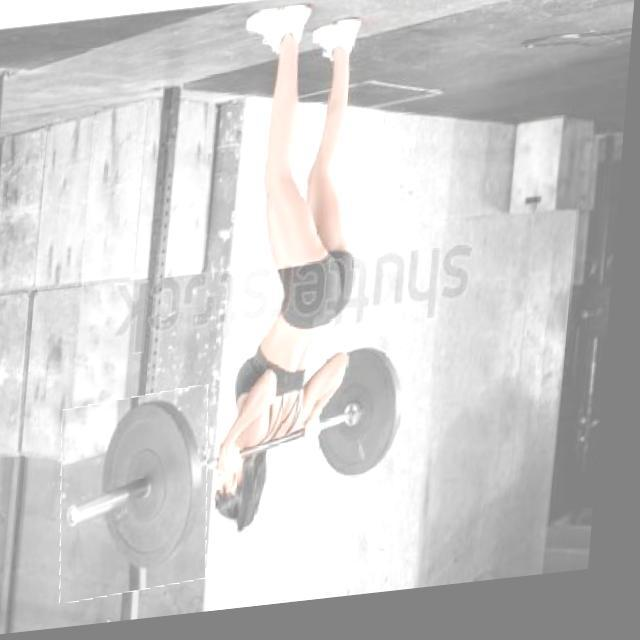barbell: (62, 392, 226, 605)
